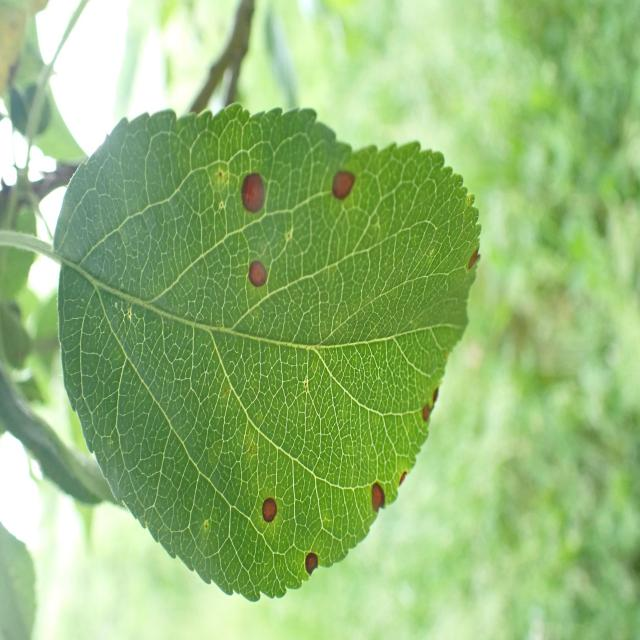Black Rot: (230, 139, 274, 226), (406, 376, 451, 439), (317, 165, 376, 210), (362, 474, 398, 536), (239, 246, 276, 297), (251, 484, 287, 534), (459, 235, 491, 289), (296, 536, 322, 580)
